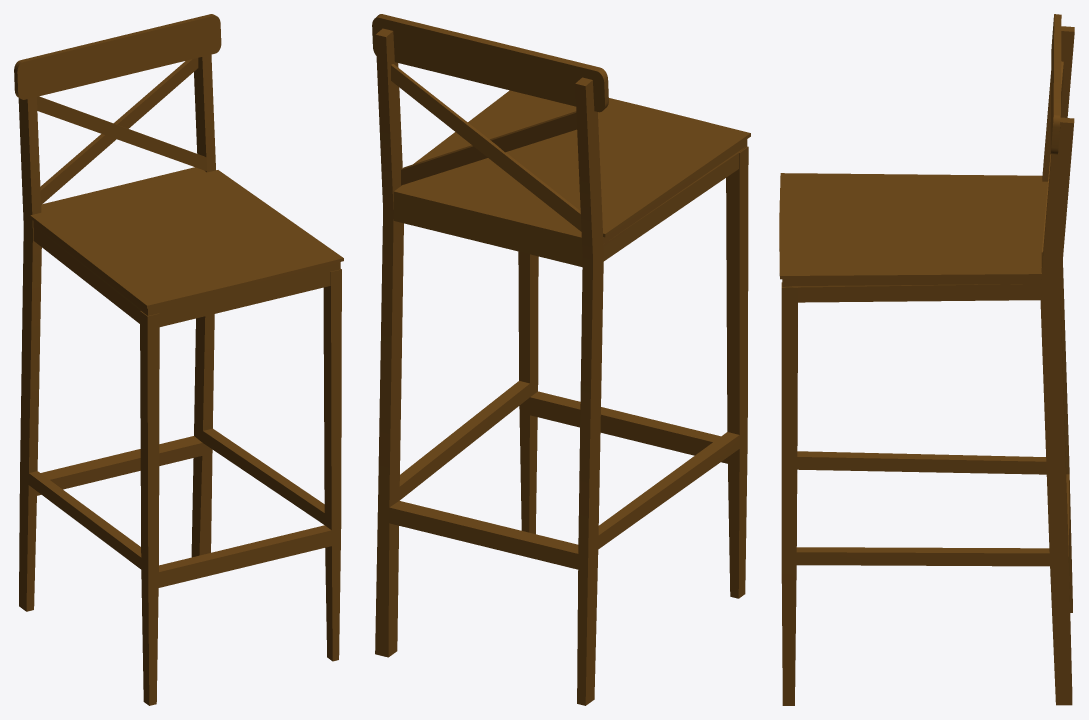
The model's file is IKEA-Ingolf_bar_stool-3D.obj.
The picture shows the model from 3 angles, left to right: view 1: azimuth 30°, elevation 25°; view 2: azimuth 150°, elevation 25°; view 3: azimuth 270°, elevation 25°; orthographic projection. The views are drawn at different scales.
Parts seen in each view (by area): view 1: Layer_0; view 2: Layer_0; view 3: Layer_0.
Boxes of the visible parts, x1=… form: Layer_0: x1=14, y1=14, x2=343, y2=705; Layer_0: x1=372, y1=14, x2=750, y2=705; Layer_0: x1=779, y1=14, x2=1074, y2=705.
Bounding box in the file's own units: 399 × 1038 × 470.
